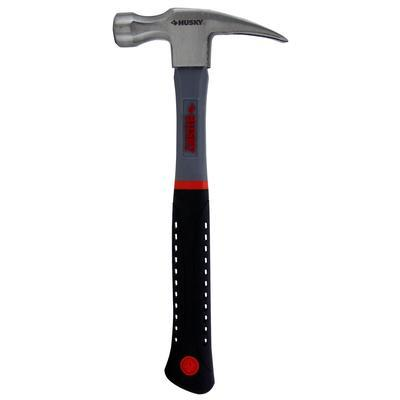hammer: (110, 5, 289, 395)
